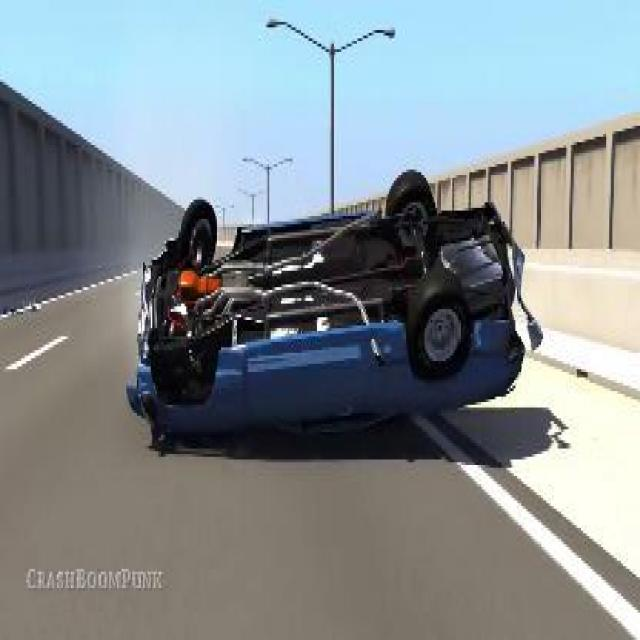accident: (121, 159, 524, 440)
